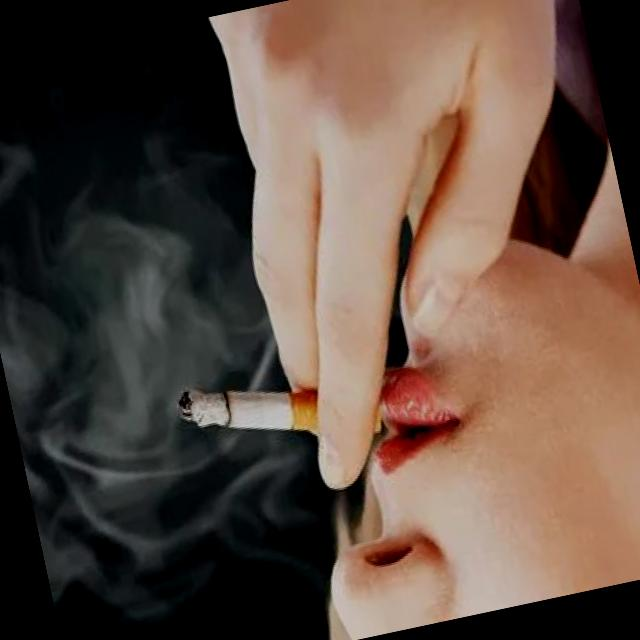smoke: (172, 348, 387, 476)
